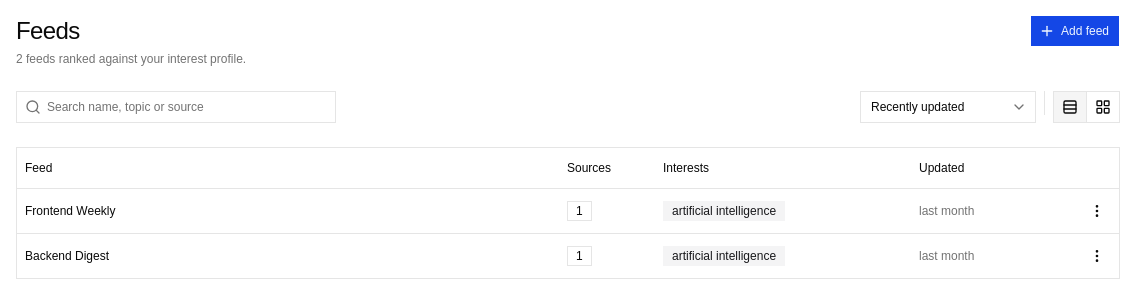
it: FeedsPage › filters feeds by search and restores them when cleared
The width and height of the screenshot is (1137, 296).
In the field named "Search feeds": (188, 107) [41,91,335,123], type "backend"
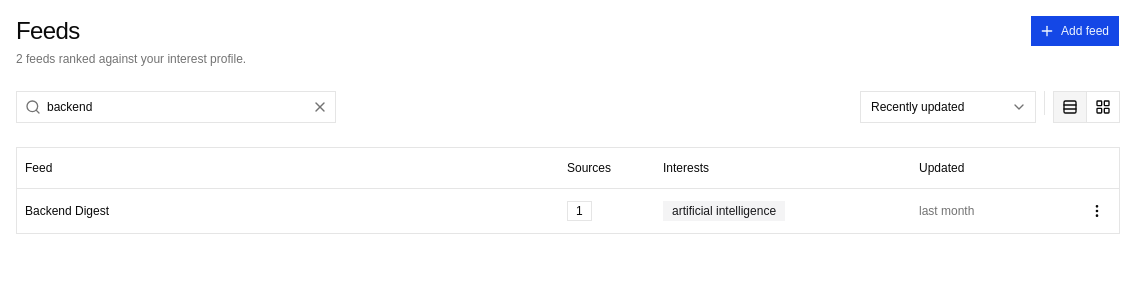
Expected: the link "Backend Digest" is shown, [25,202,109,218]
Now the link "Frontend Weekly" is gone
Click the button named "Clear search": (320, 107) [308,95,332,119]
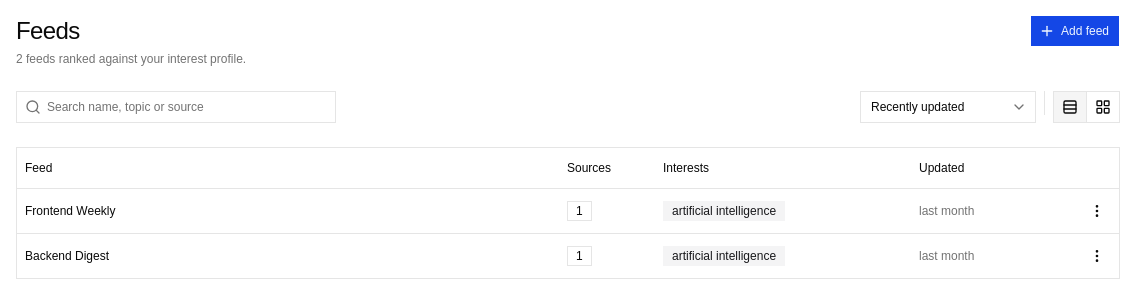
Now the link "Frontend Weekly" is shown, box [25,202,116,218]
